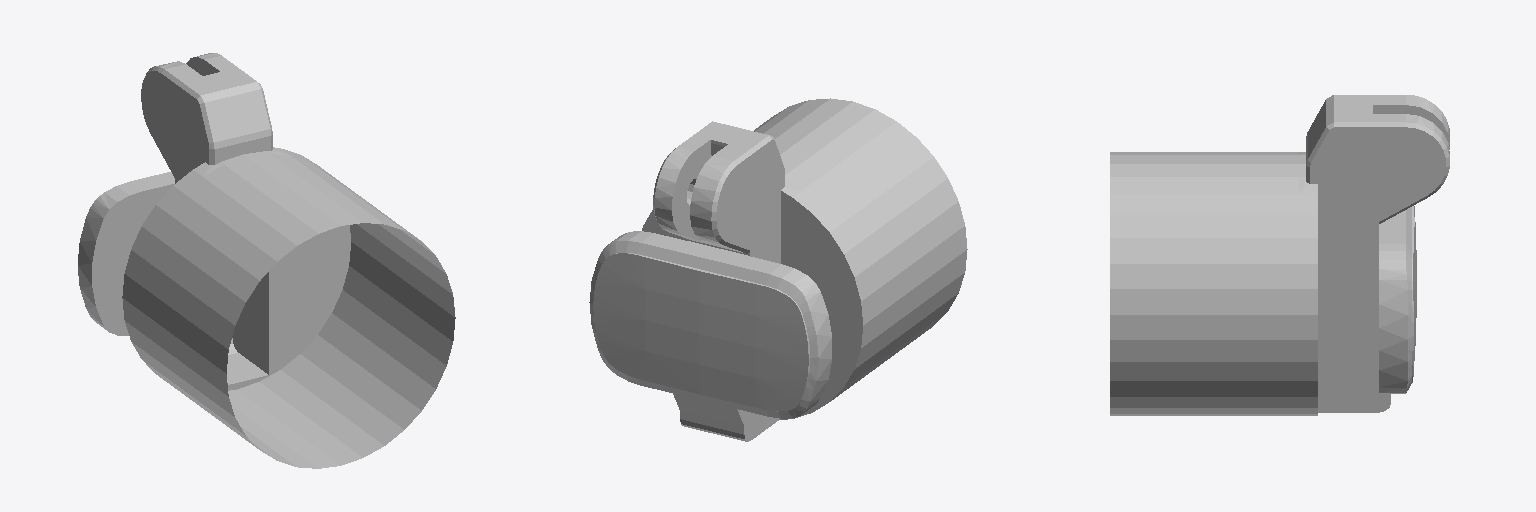
File: wamLowerWristFTPalmLink.obj
The picture shows the model from 3 angles: view 1: azimuth 30°, elevation 25°; view 2: azimuth 150°, elevation 25°; view 3: azimuth 270°, elevation 25°; orthographic projection.
Parts seen in each view (by area): view 1: wamLowerWristFTPalmLinkM; view 2: wamLowerWristFTPalmLinkM; view 3: wamLowerWristFTPalmLinkM.
Part boxes in pixels (x1,y1,x2,y2): wamLowerWristFTPalmLinkM: (78, 53, 455, 468); wamLowerWristFTPalmLinkM: (589, 98, 967, 441); wamLowerWristFTPalmLinkM: (1110, 95, 1449, 415).
Size of the model in its own units: 0.089 by 0.1095 by 0.1144.